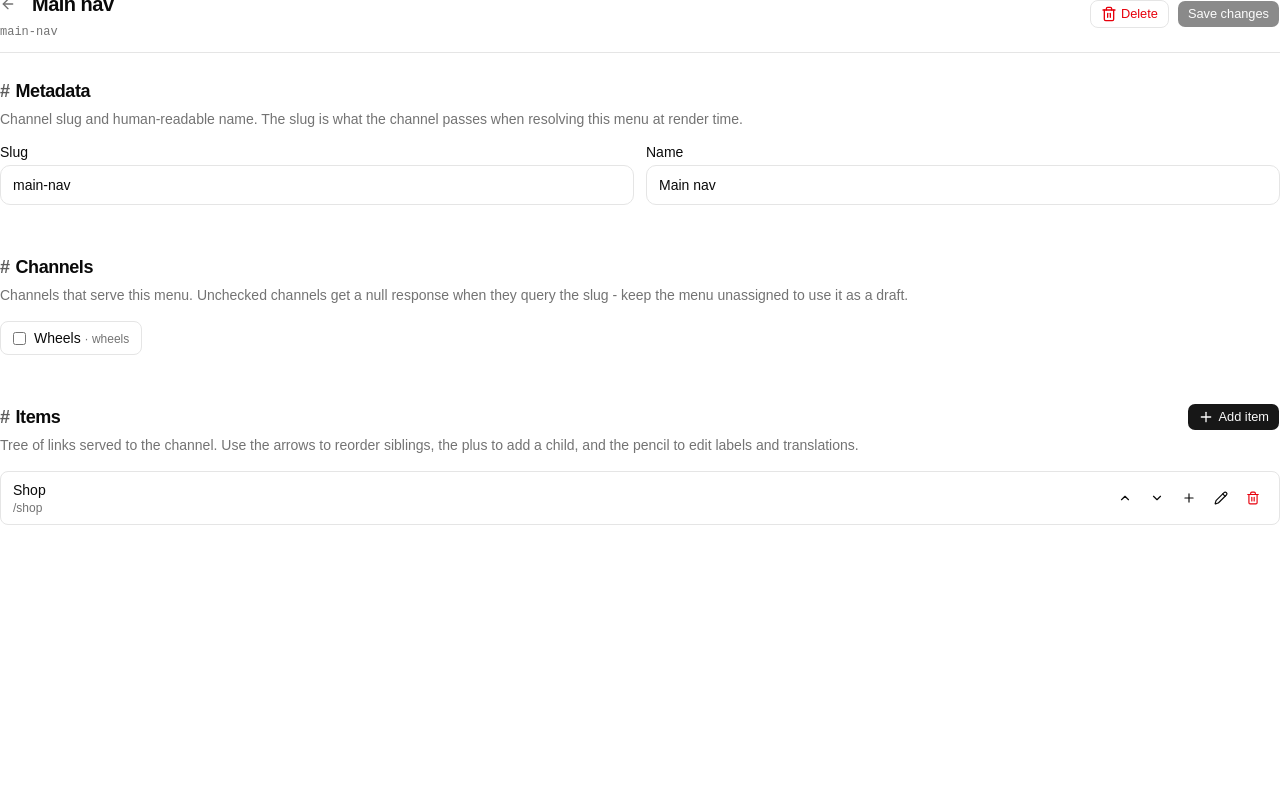
it: MenuDetail deletes › closes the menu delete at once and reports a refusal on the page
Note: The header's Delete comes before the tree row's (both are named Delete)
What coordinates should you click on to do the following:
click the button "Delete"
I would click on:
 (1129, 14)
Its box is x1=1090 y1=0 x2=1169 y2=28.
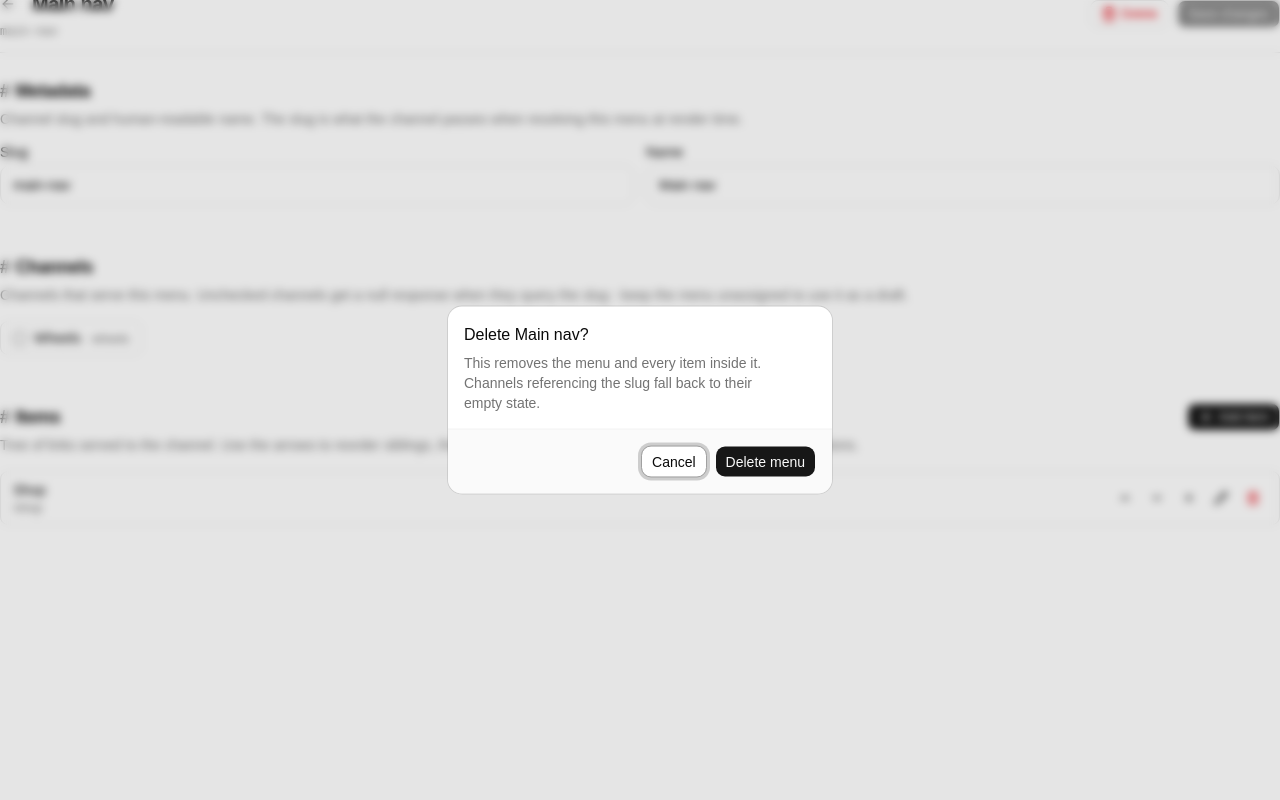
What coordinates should you click on to do the following:
click the button "Delete menu"
I would click on:
 (765, 462)
Its box is x1=715 y1=446 x2=816 y2=478.
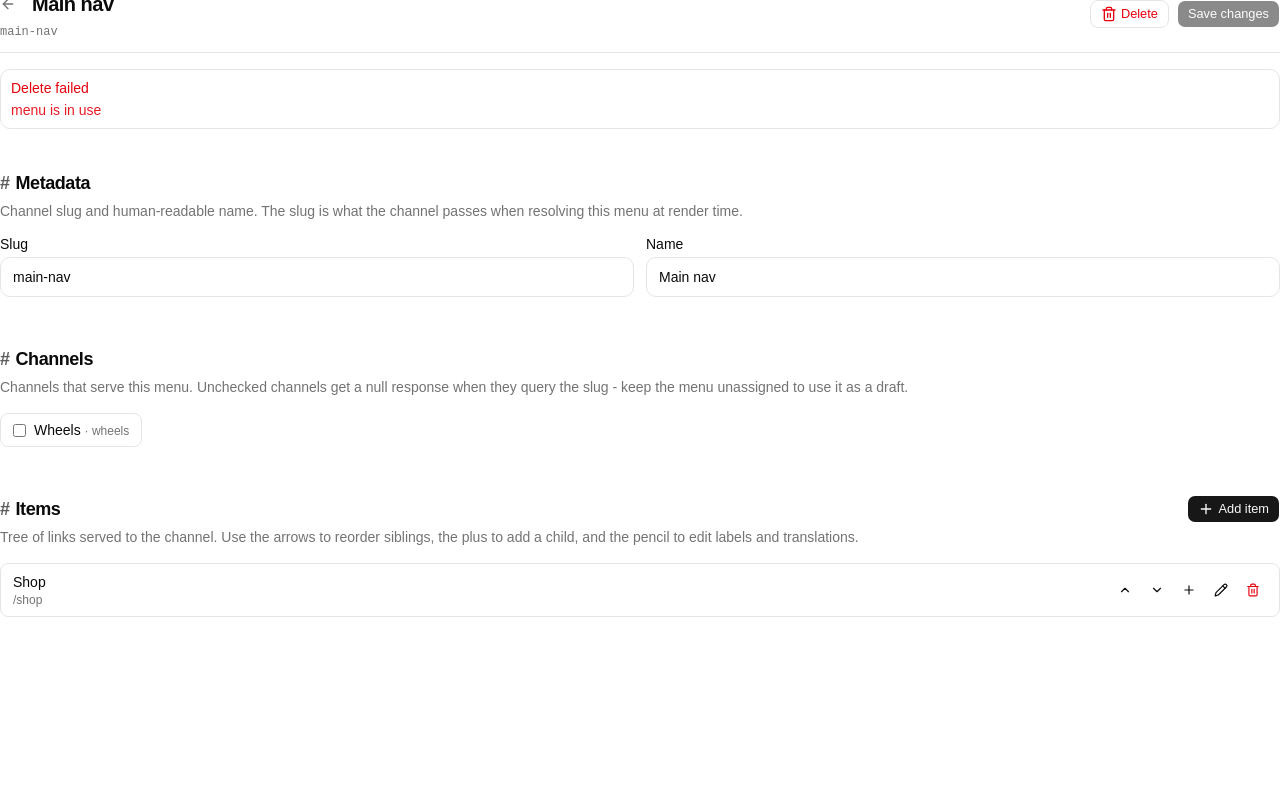
Check: the dialog is gone
Check: the text "menu is in use" is shown, box x1=11 y1=102 x2=101 y2=118
